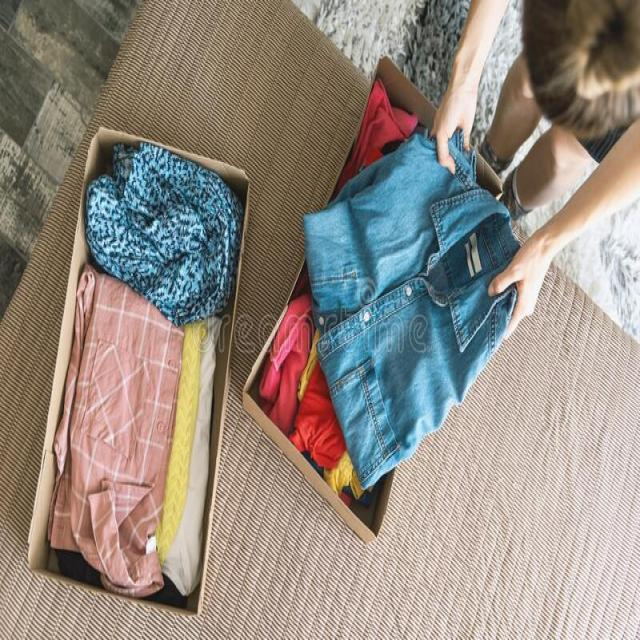clothes: (90, 138, 210, 593)
